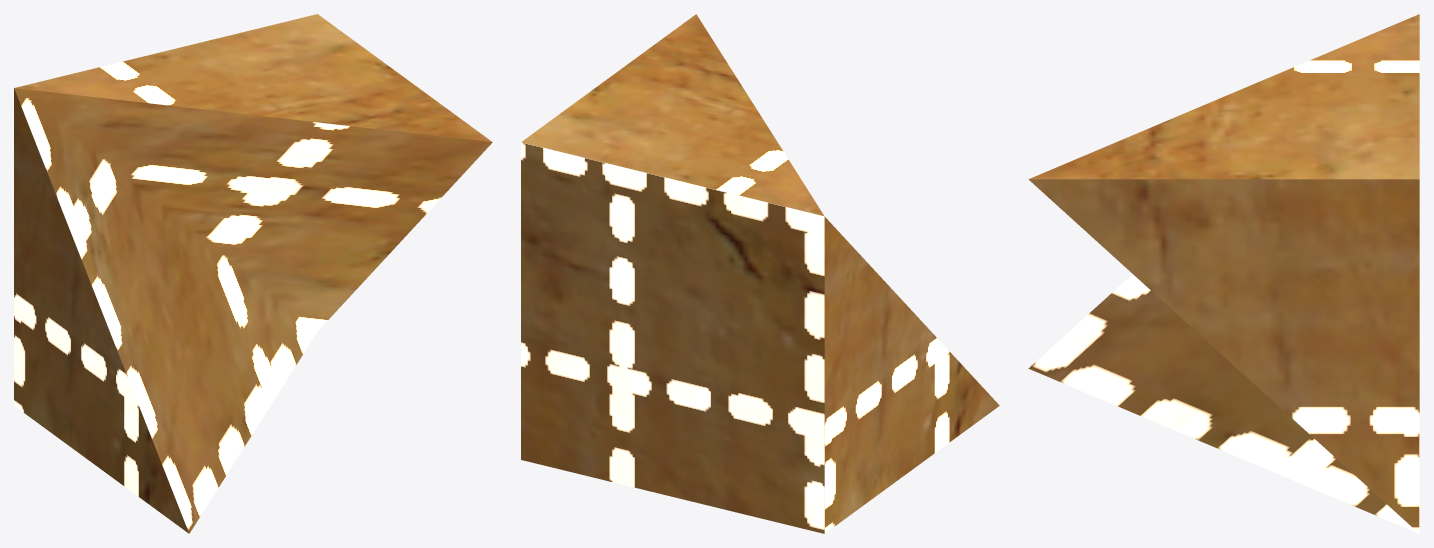
File: block-ramp-two.glb
3 views of the same model, side by side, from view 1: azimuth 30°, elevation 25°; view 2: azimuth 150°, elevation 25°; view 3: azimuth 270°, elevation 25° (orthographic). The views are drawn at different scales.
Visible parts, largest first — view 1: Block-Ramp-Two; view 2: Block-Ramp-Two; view 3: Block-Ramp-Two.
Boxes of the visible parts, left/top/right/bottom form: Block-Ramp-Two: left=14, top=14, right=492, bottom=533; Block-Ramp-Two: left=521, top=14, right=999, bottom=533; Block-Ramp-Two: left=1028, top=14, right=1419, bottom=533.
Bounding box in the file's own units: 2 × 2 × 2.
Materials: 1 (1 with a texture image).
